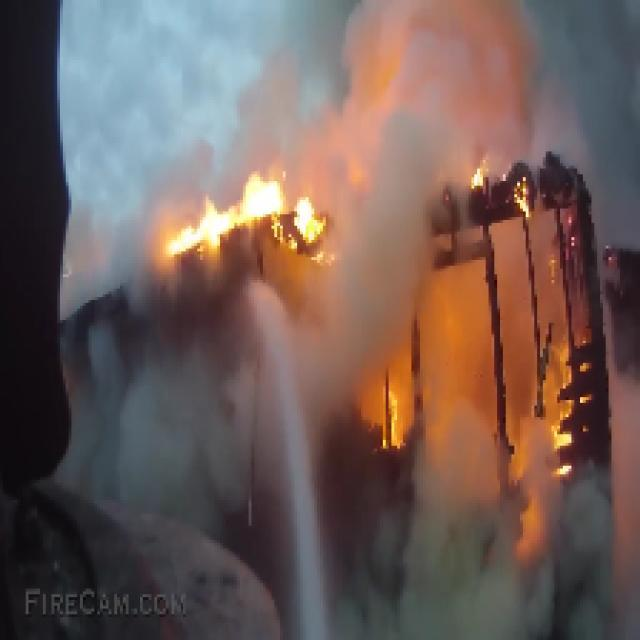Fire: (360, 317, 583, 554), (157, 166, 357, 274), (462, 166, 538, 226)
Smoke: (217, 6, 626, 314), (331, 414, 620, 640), (69, 328, 258, 558)
